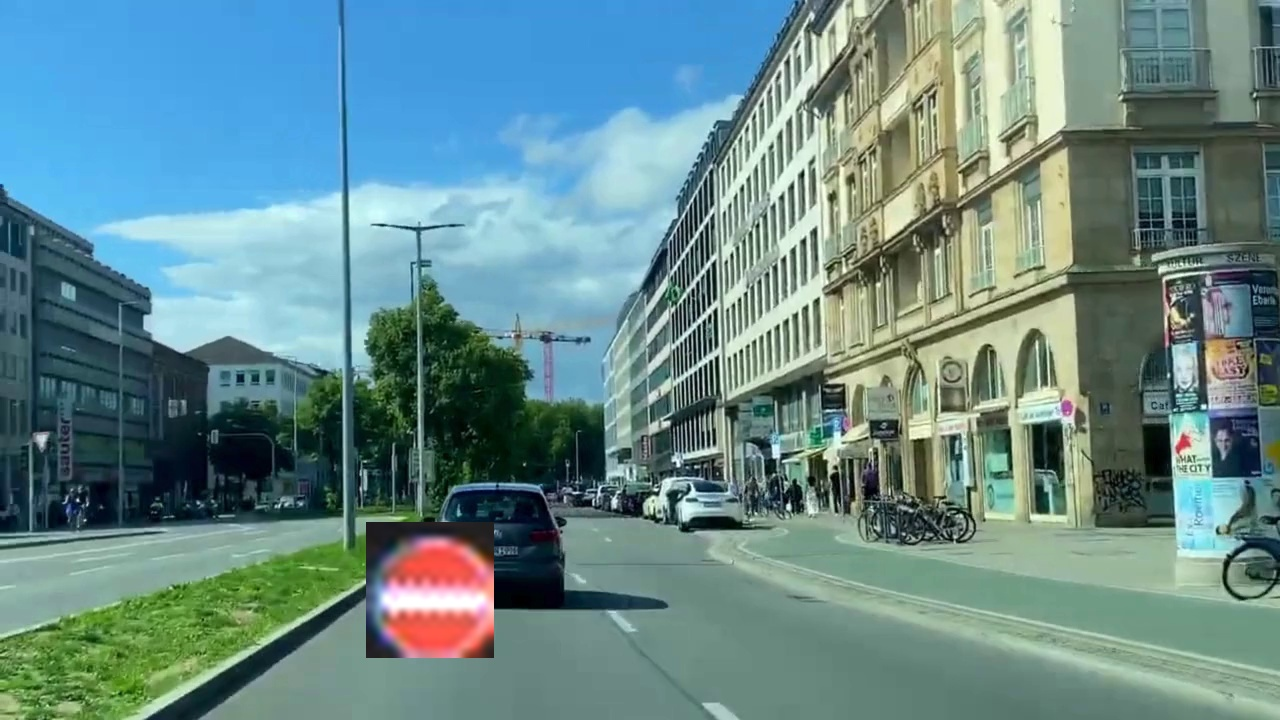No entry: (366, 522, 494, 658)
